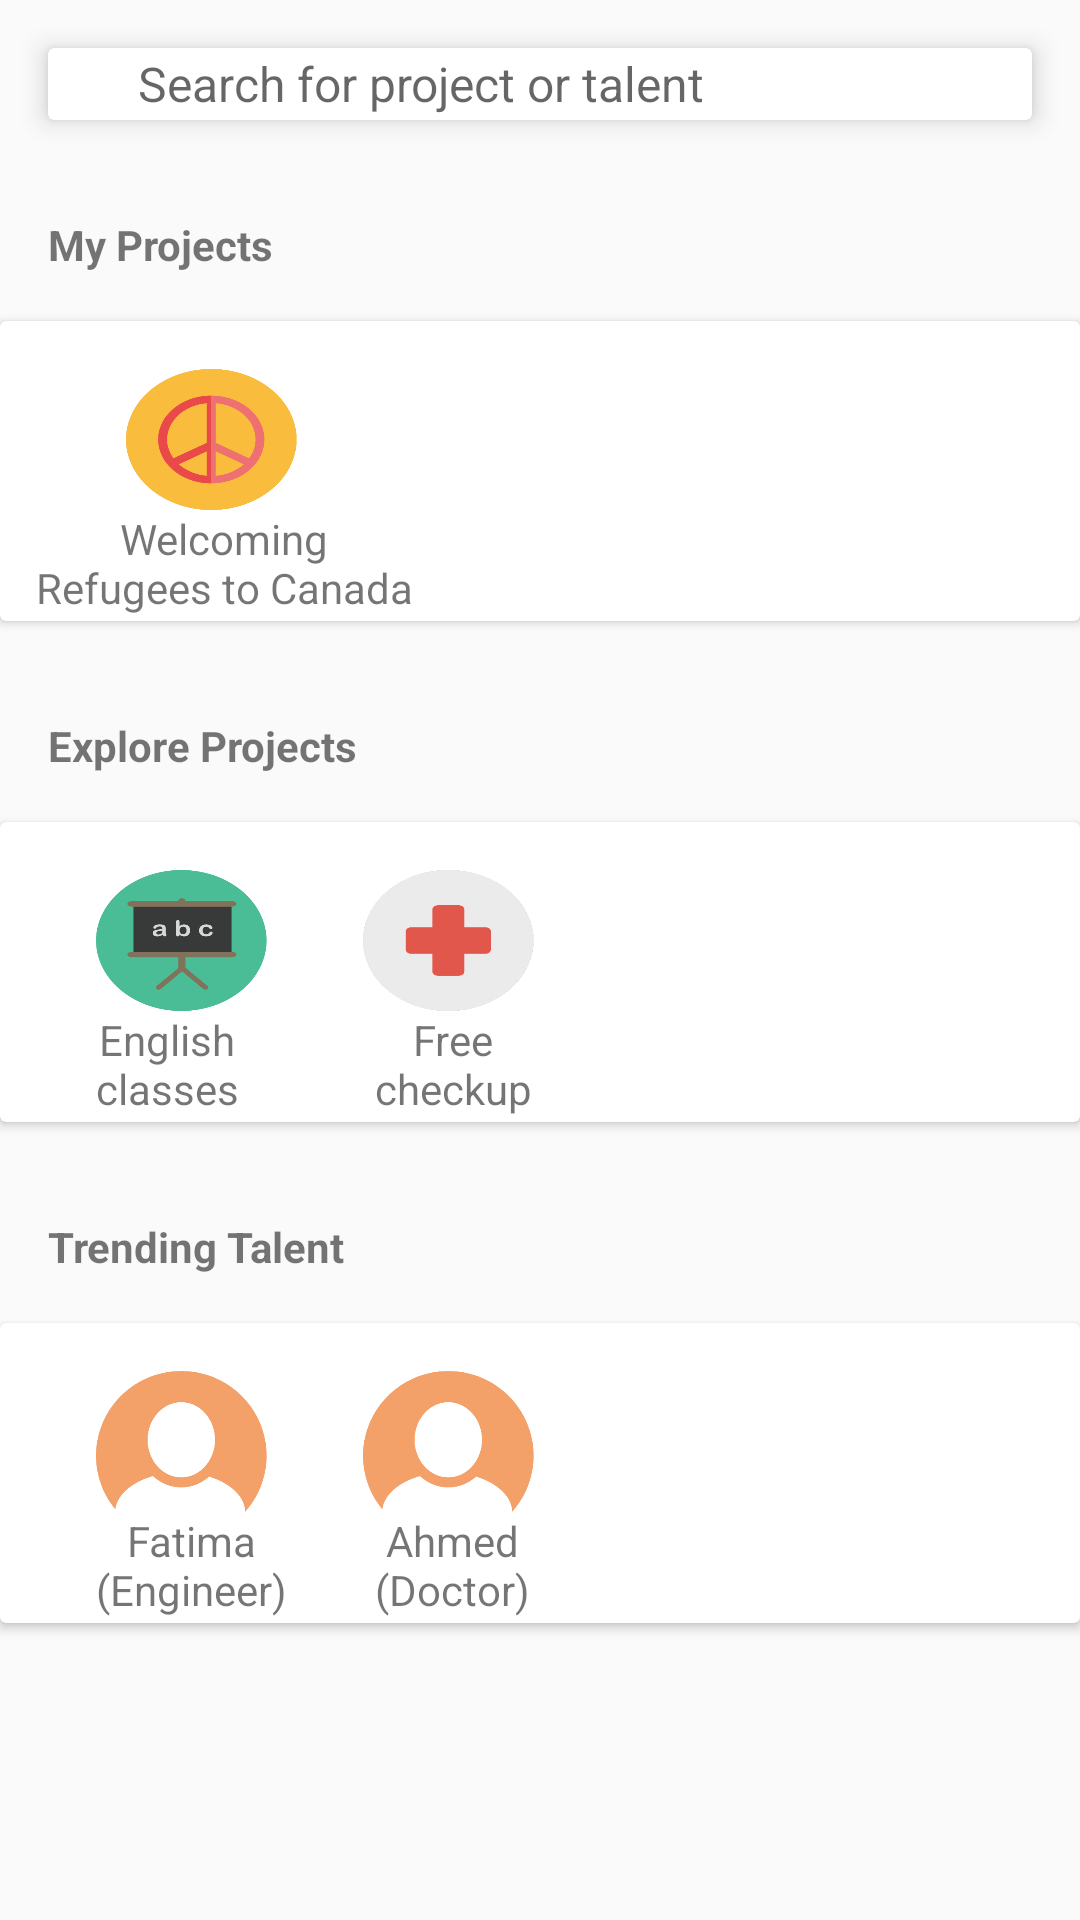

Locate icon controls on the screen. Image size 1080*1920, boxes as (x1, y1, x2, y2).
education: (96, 870, 267, 1011)
healthcare: (363, 870, 534, 1011)
peace: (126, 369, 297, 510)
profile: (96, 1371, 267, 1512), (363, 1371, 534, 1512)
